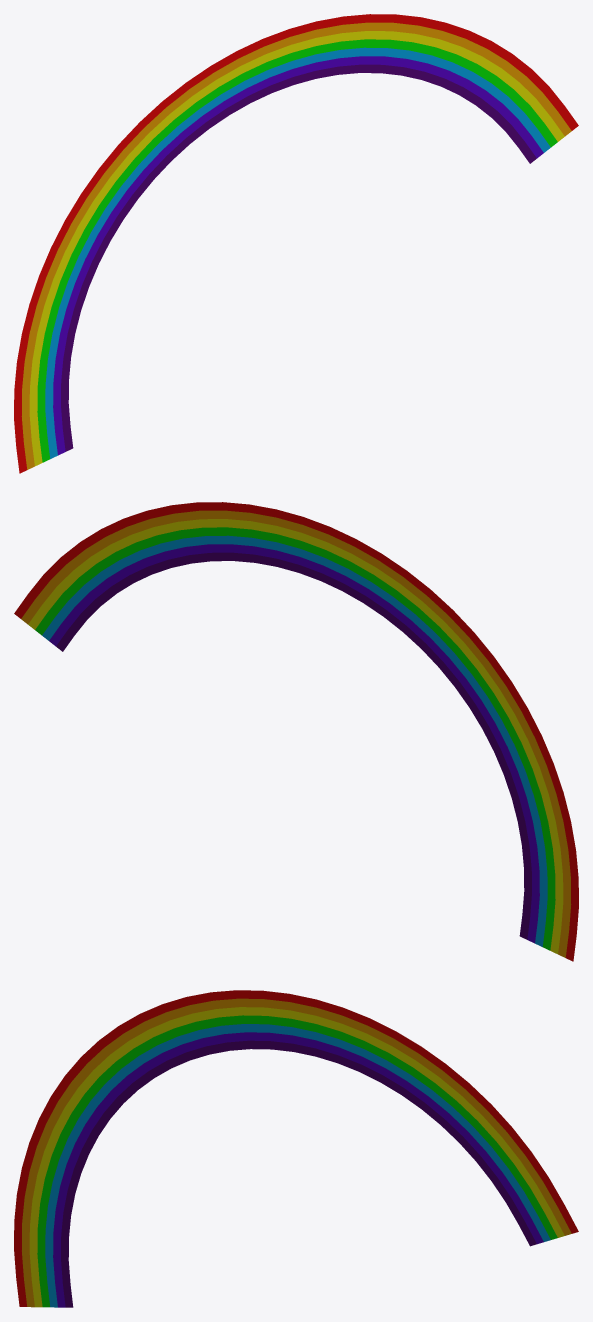
The model's file is Rainbow.fbx.
3 renders of one model, top to bottom at view 1: azimuth 30°, elevation 25°; view 2: azimuth 150°, elevation 25°; view 3: azimuth 330°, elevation 25°, orthographic.
Parts seen in each view (by area): view 1: rainbow; view 2: rainbow; view 3: rainbow.
Part boxes in pixels (bbox=[...]): rainbow: bbox=[14, 14, 578, 473]; rainbow: bbox=[14, 502, 578, 961]; rainbow: bbox=[14, 990, 578, 1307].
Size of the model in its own units: 499 by 320 by 0.
